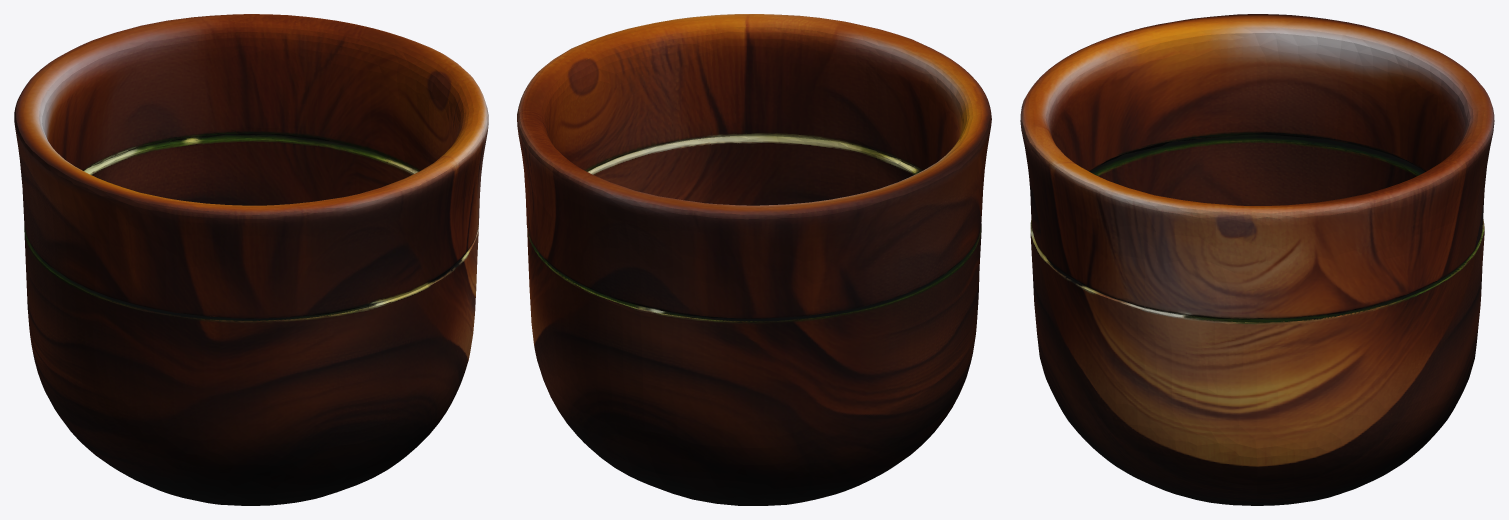
File: wooden-cup-futuristic.jpeg.glb
3 views of the same model, side by side, from view 1: azimuth 30°, elevation 25°; view 2: azimuth 150°, elevation 25°; view 3: azimuth 270°, elevation 25° (orthographic).
Visible parts, largest first — view 1: world; view 2: world; view 3: world.
Part boxes in pixels (x1,y1,x2,y2): world: (14, 14, 488, 505); world: (517, 14, 991, 505); world: (1020, 14, 1494, 505).
Bounding box in the file's own units: 1 × 0.805 × 1.
Materials: 1 (1 with a texture image).
